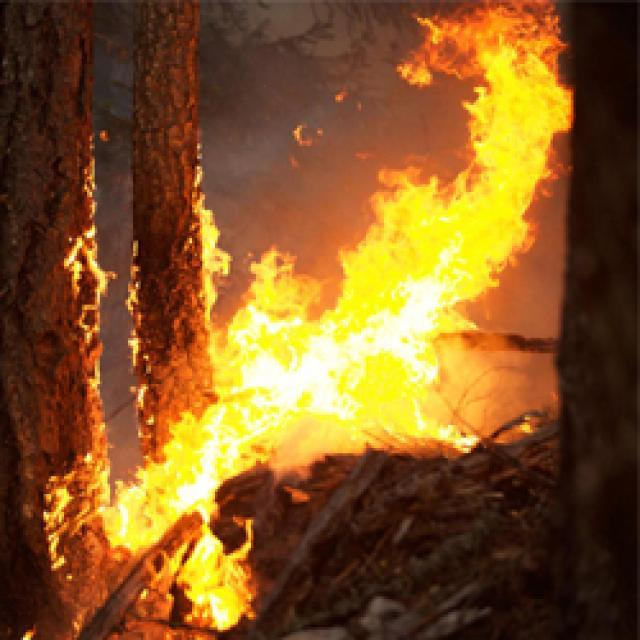Fire: (358, 0, 582, 261), (213, 248, 486, 454), (112, 415, 278, 640), (64, 136, 114, 446), (28, 449, 112, 574), (119, 238, 153, 432), (192, 166, 217, 326), (515, 410, 535, 433), (19, 625, 40, 640)
Smoke: (186, 0, 358, 243), (481, 261, 566, 404)
